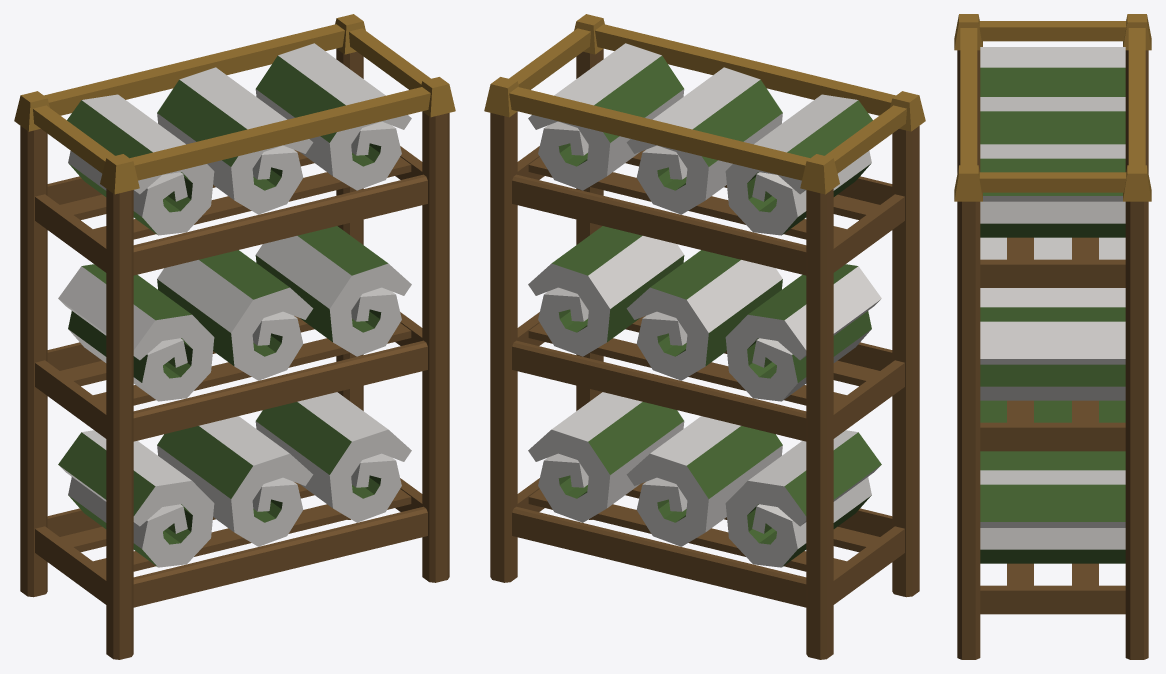
The model's file is pool-towel-stand-53865f.glb.
3 renders of one model, left to right at view 1: azimuth 30°, elevation 25°; view 2: azimuth 150°, elevation 25°; view 3: azimuth 270°, elevation 25°, orthographic.
Visible parts, largest first — view 1: stand, towel-roll-mesh; view 2: stand, towel-roll-mesh; view 3: stand, towel-roll-mesh.
Boxes of the visible parts, x1,y1,x2,y2 form: stand: (14,14,455,659); towel-roll-mesh: (255,43,411,190); stand: (484,14,925,659); towel-roll-mesh: (528,43,684,190); stand: (954,14,1151,659); towel-roll-mesh: (980,144,1125,237).
Bounding box in the file's own units: 1.01 × 1.4 × 0.515.
